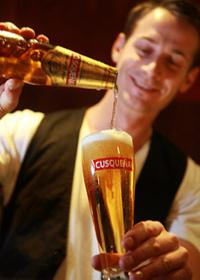person: (1, 2, 200, 280)
